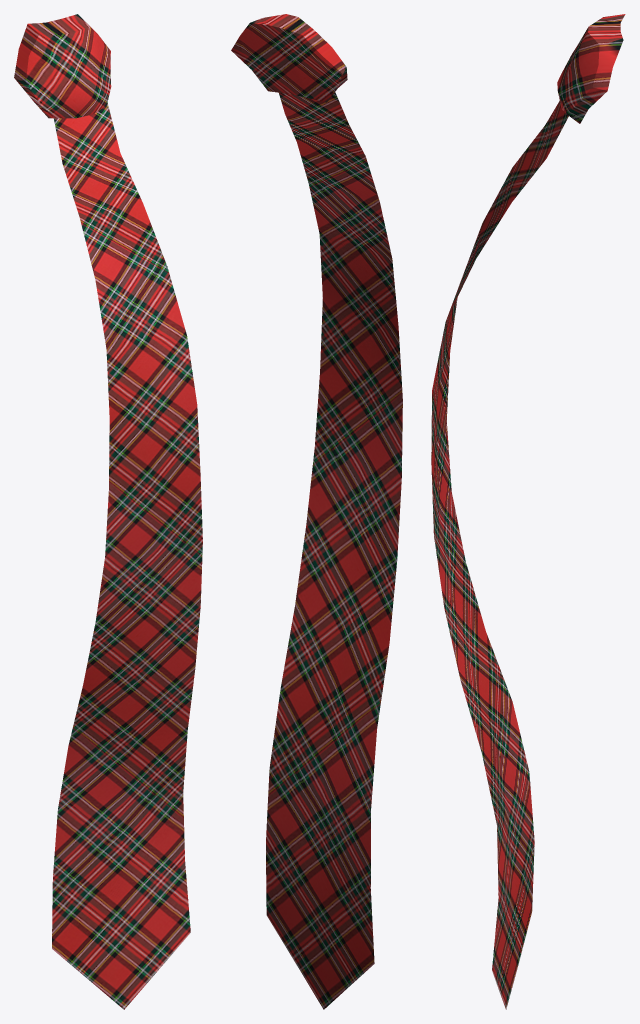
File: Pose-3_SuitTie-1.fbx
3 views of the same model, side by side, from view 1: azimuth 30°, elevation 25°; view 2: azimuth 150°, elevation 25°; view 3: azimuth 270°, elevation 25° (orthographic). The views are drawn at different scales.
Visible parts, largest first — view 1: Pose-3_SuitTie-1; view 2: Pose-3_SuitTie-1; view 3: Pose-3_SuitTie-1.
Boxes of the visible parts, x1,y1,x2,y2 form: Pose-3_SuitTie-1: (14, 14, 202, 1009); Pose-3_SuitTie-1: (231, 14, 402, 1009); Pose-3_SuitTie-1: (431, 14, 625, 1009).
Bounding box in the file's own units: 6.98 × 51.34 × 9.25.
